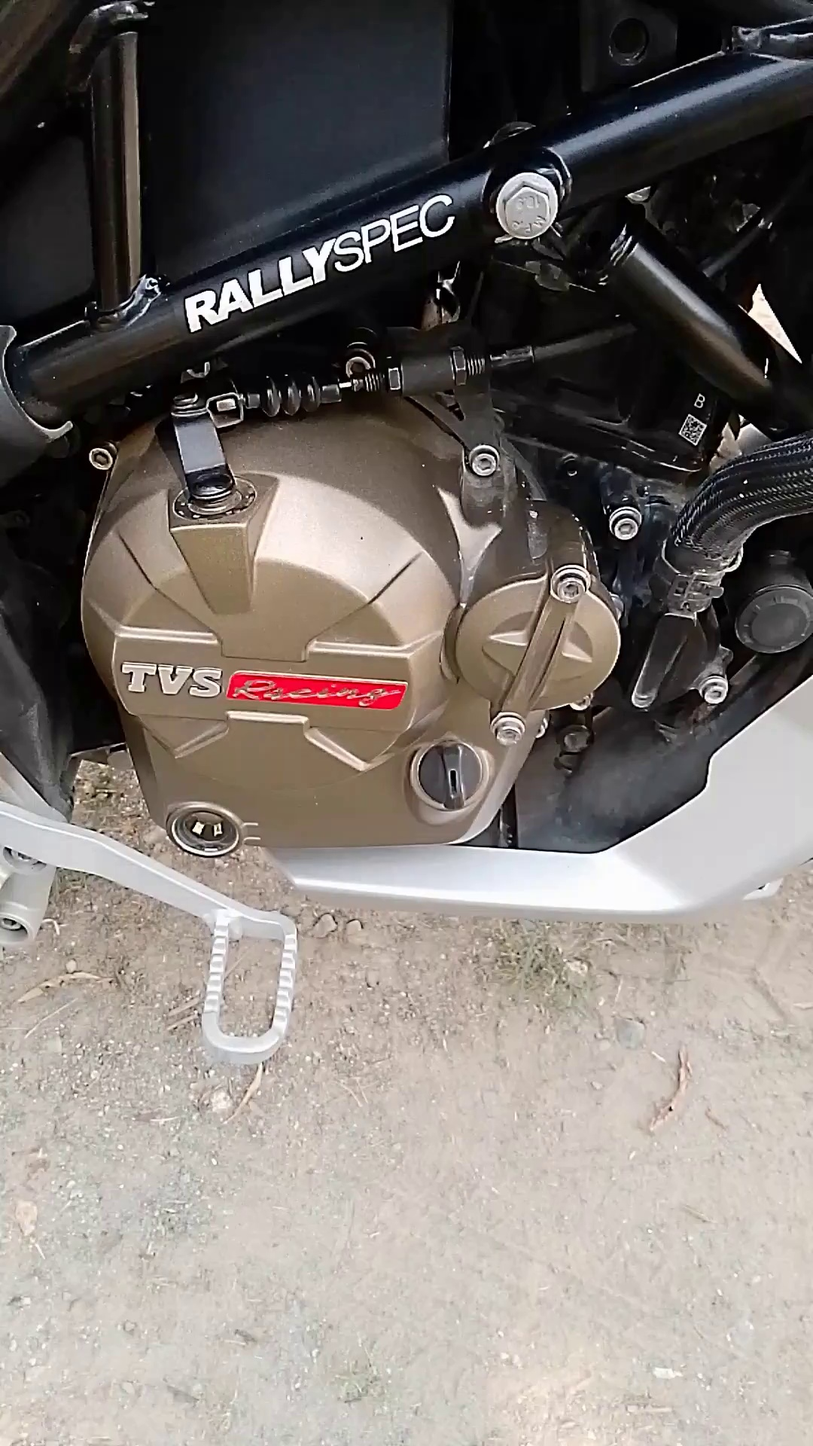bike-engine: (76, 381, 623, 862)
bike-engine-level: (164, 795, 277, 866)
bike-oil-cap: (399, 730, 500, 823)
